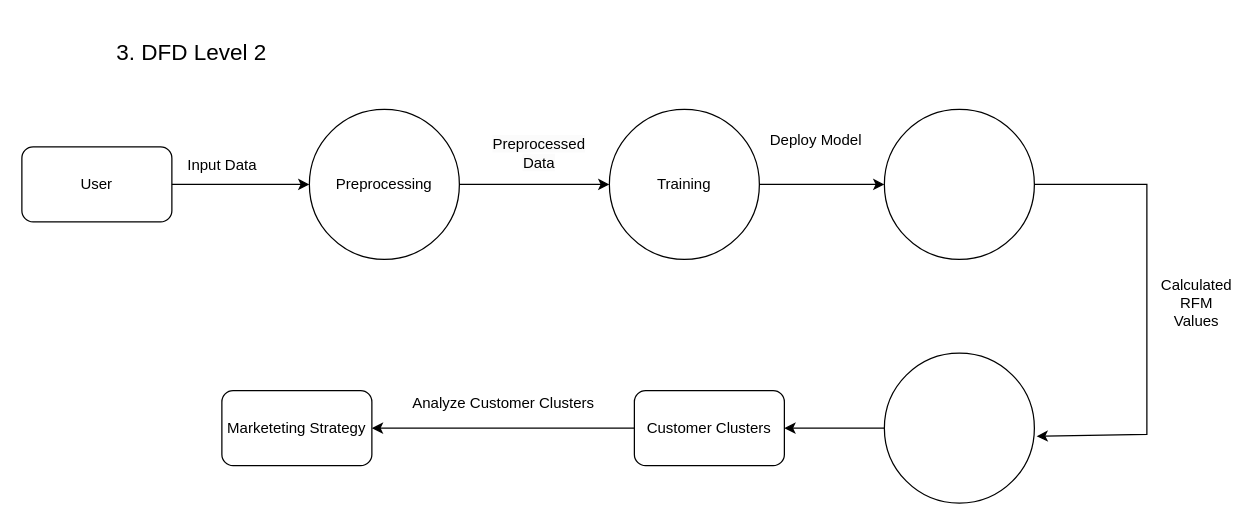
This 1256x525 diagram has some shape labels left out. Each missing label, with the centre of its shape:
"Customer Segmentation" belongs at (958,427).
"RFM Values Calculation" belongs at (958,183).
